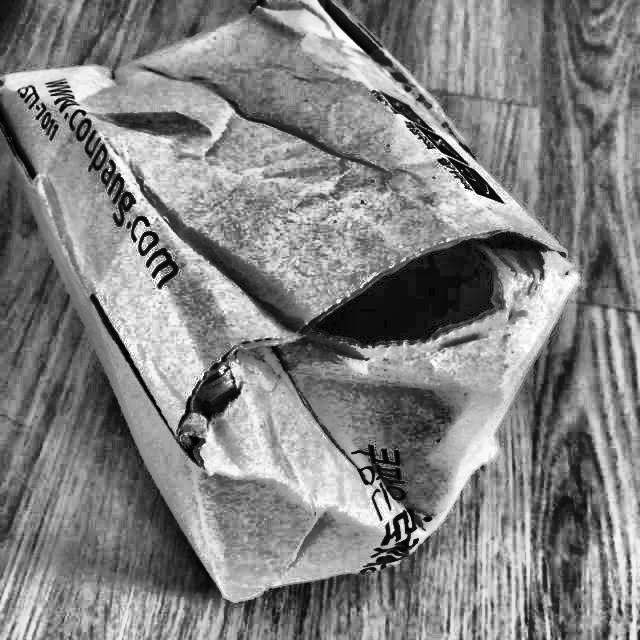box: (0, 0, 574, 609)
hole: (305, 231, 566, 381)
